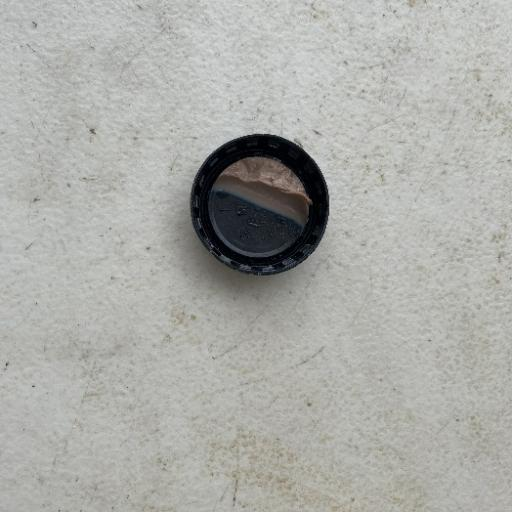Plastic: (187, 131, 330, 277)
